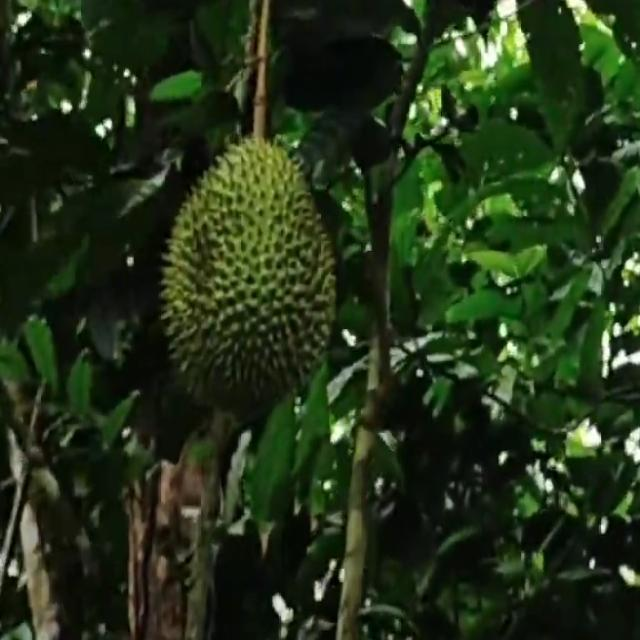immature: (160, 128, 335, 419)
